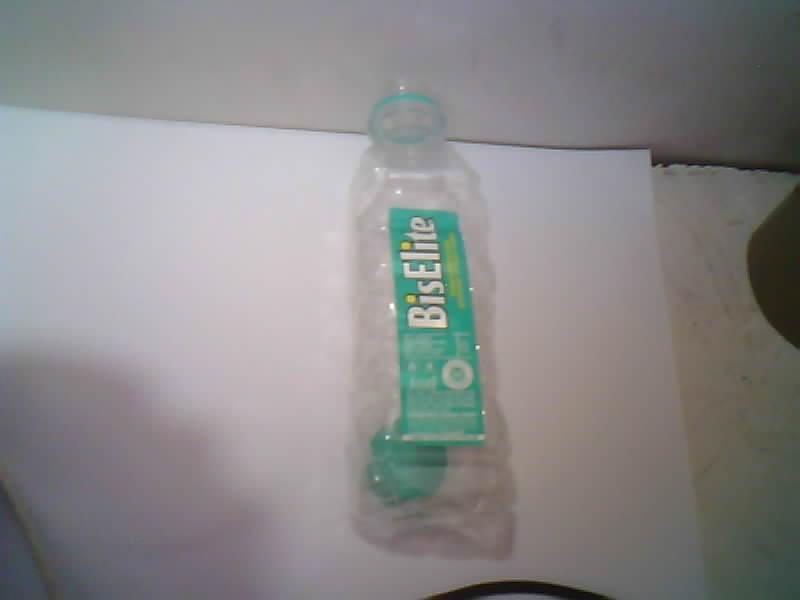non-biodegradable: (348, 93, 512, 554)
